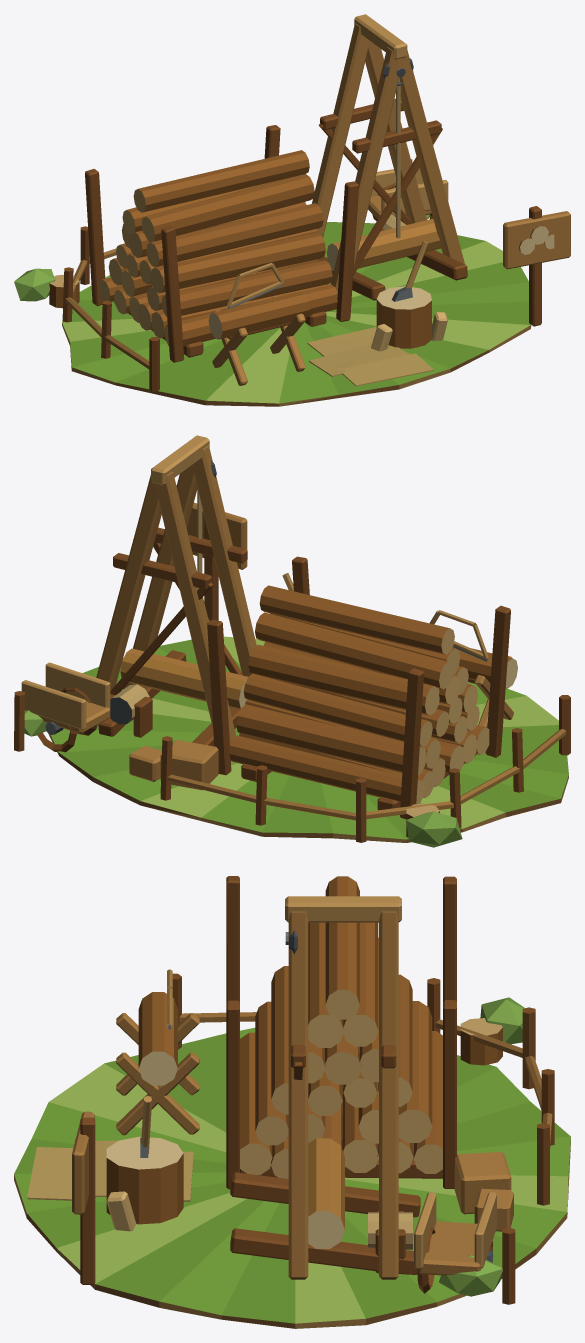
3 views of the same model, one above another, from view 1: azimuth 30°, elevation 25°; view 2: azimuth 150°, elevation 25°; view 3: azimuth 270°, elevation 25° (orthographic). The views are drawn at different scales.
Parts seen in each view (by area): view 1: WK_LoggingCamp_LOD1_Balanced; view 2: WK_LoggingCamp_LOD1_Balanced; view 3: WK_LoggingCamp_LOD1_Balanced.
Part boxes in pixels (bbox=[...]): WK_LoggingCamp_LOD1_Balanced: bbox=[14, 14, 570, 406]; WK_LoggingCamp_LOD1_Balanced: bbox=[14, 435, 570, 847]; WK_LoggingCamp_LOD1_Balanced: bbox=[14, 876, 570, 1328].
Bounding box in the file's own units: 12.46 × 6.67 × 9.66.
